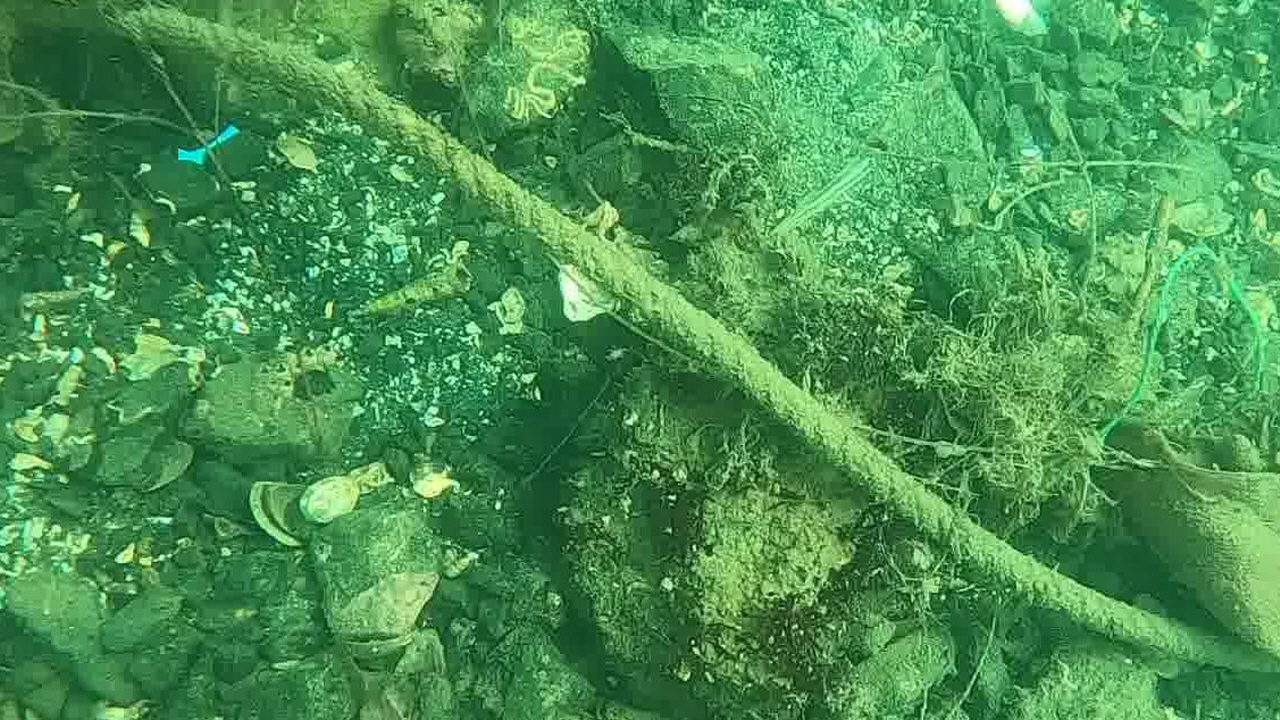rope: (105, 6, 1280, 676)
